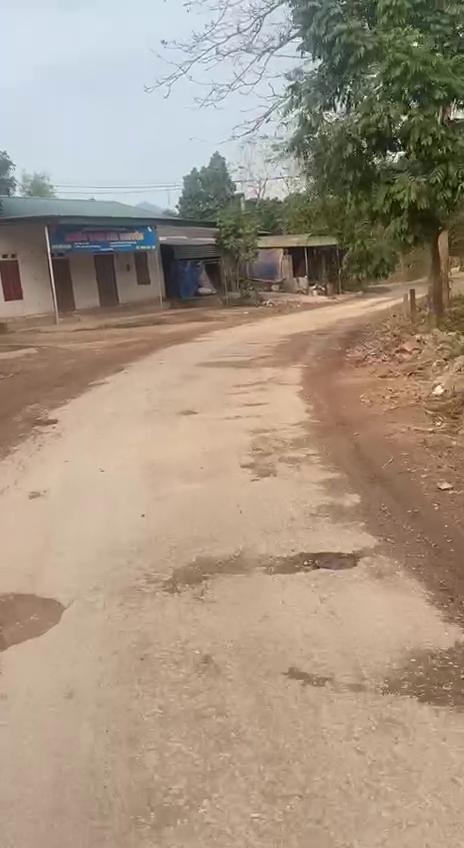pothole: (0, 580, 70, 658), (256, 546, 366, 580)
